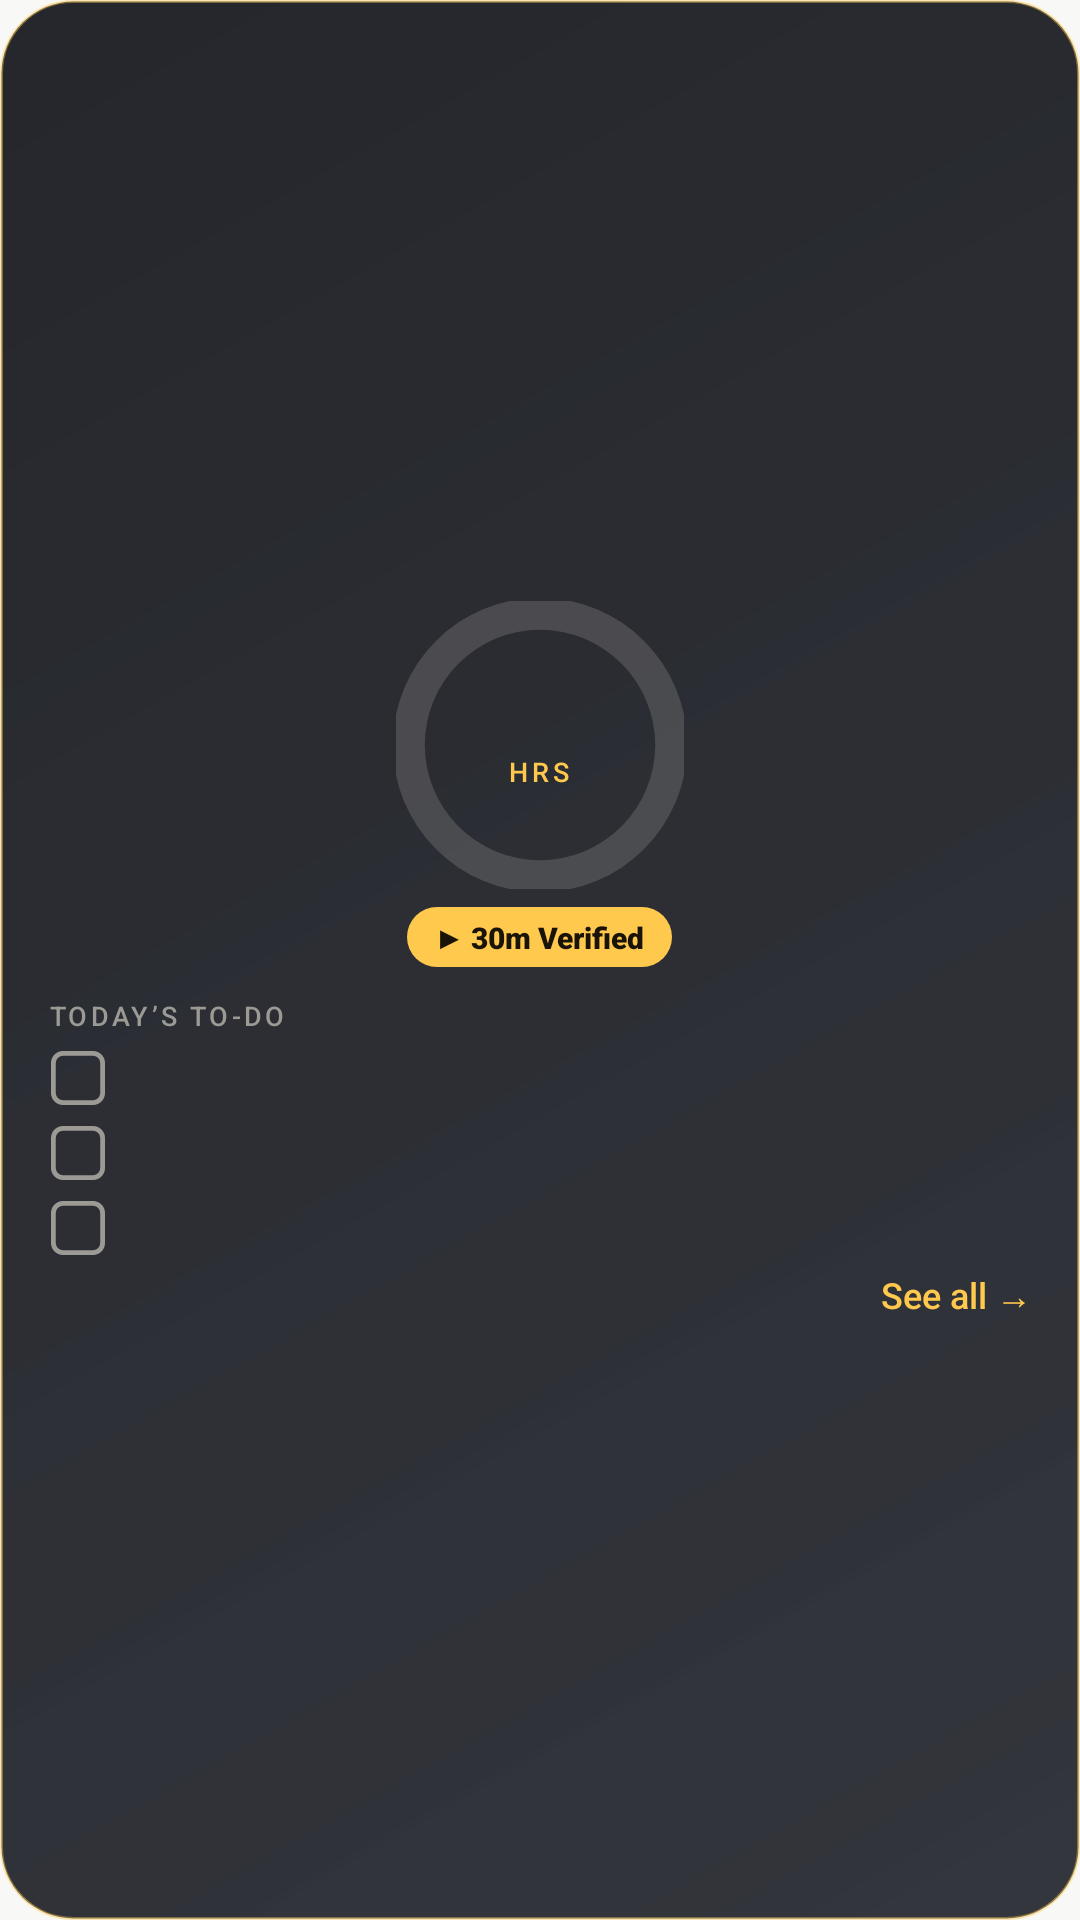

Screen size 1080*1920. Icon name, then its center in pixels as point (x, y):
Toggle task: point (78, 1078), point (78, 1153), point (78, 1228)
